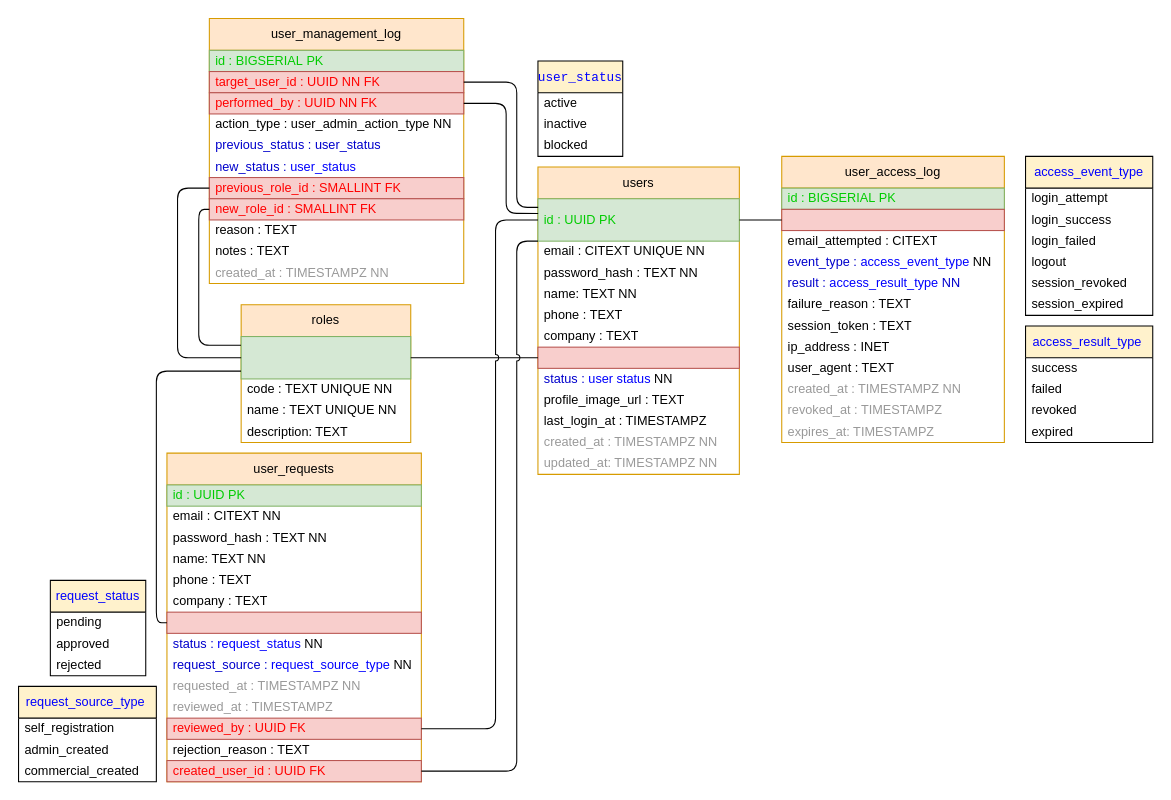
Image size: 1171x800. Some labels were removed from this diagram. Each missing label, with the centre of its shape:
id : SMALLINT PK: point (325, 357)
requested_role_id : SMALLINT NN FK: point (293, 622)
role_id : SMALLINT NN FK: point (638, 357)
user_id : UUID FK: point (892, 219)
